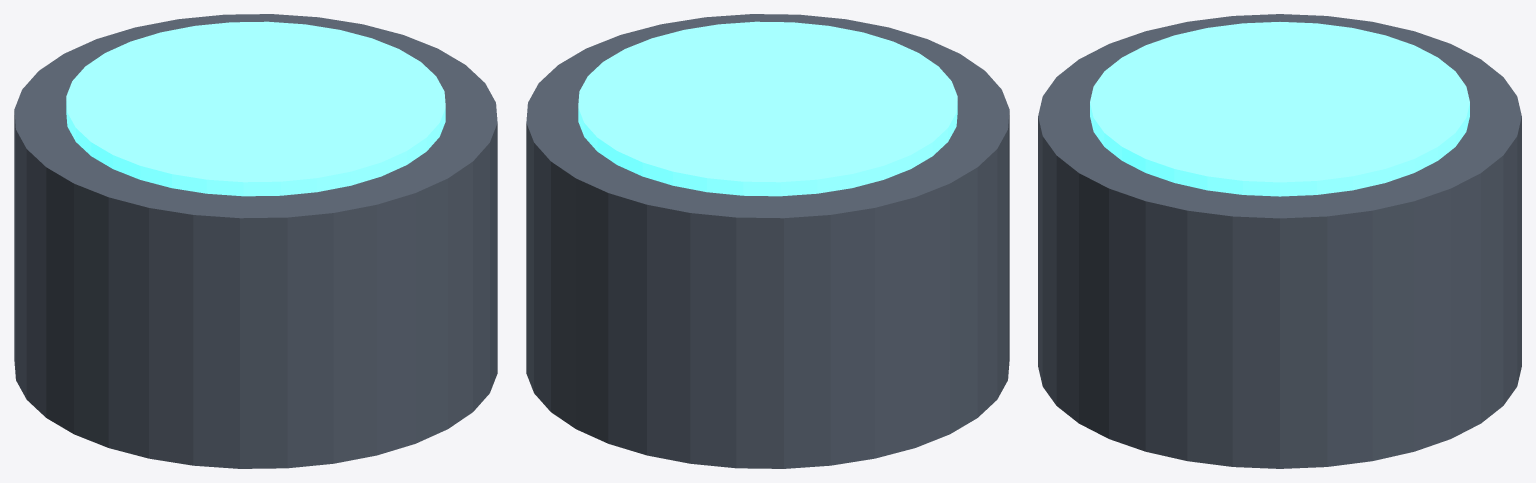
Rendered from prop_holo_console.glb.
The picture shows the model from 3 angles, left to right: view 1: azimuth 30°, elevation 25°; view 2: azimuth 150°, elevation 25°; view 3: azimuth 270°, elevation 25°; orthographic projection.
Parts seen in each view (by area): view 1: HoloConsole; view 2: HoloConsole; view 3: HoloConsole.
Part boxes in pixels (x1,y1,x2,y2): HoloConsole: [14, 14, 497, 468]; HoloConsole: [526, 14, 1009, 468]; HoloConsole: [1038, 14, 1521, 468].
Size of the model in its own units: 1.4 by 0.845 by 1.4.
